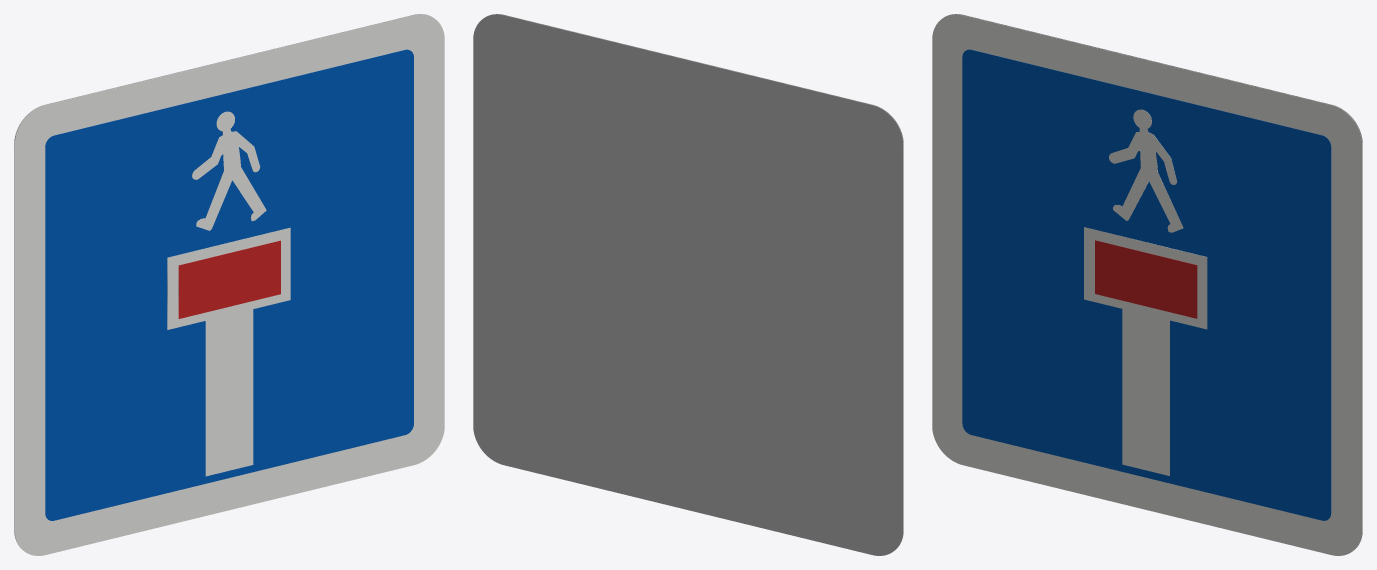
3 renders of one model, left to right at view 1: azimuth 30°, elevation 25°; view 2: azimuth 150°, elevation 25°; view 3: azimuth 330°, elevation 25°, orthographic.
Visible parts, largest first — view 1: C13c_p01, C13c_p00, C13c_p03, C13c_p04, C13c_p02, C13c_dos; view 2: C13c_dos, C13c_p00; view 3: C13c_p01, C13c_p00, C13c_p03, C13c_p04, C13c_p02, C13c_dos.
Part boxes in pixels (<box>): C13c_p01: <box>45,49,413,520</box>; C13c_p00: <box>14,14,444,555</box>; C13c_p03: <box>167,227,290,476</box>; C13c_p04: <box>178,240,280,318</box>; C13c_p02: <box>192,111,266,230</box>; C13c_dos: <box>14,14,431,547</box>; C13c_dos: <box>473,14,903,555</box>; C13c_p00: <box>486,14,903,547</box>; C13c_p01: <box>962,49,1331,520</box>; C13c_p00: <box>932,14,1362,555</box>; C13c_p03: <box>1084,227,1207,475</box>; C13c_p04: <box>1095,240,1197,318</box>; C13c_p02: <box>1109,109,1183,232</box>; C13c_dos: <box>945,14,1362,547</box>.
Size of the model in its own units: 0.7 by 0.6999 by 0.0035.
